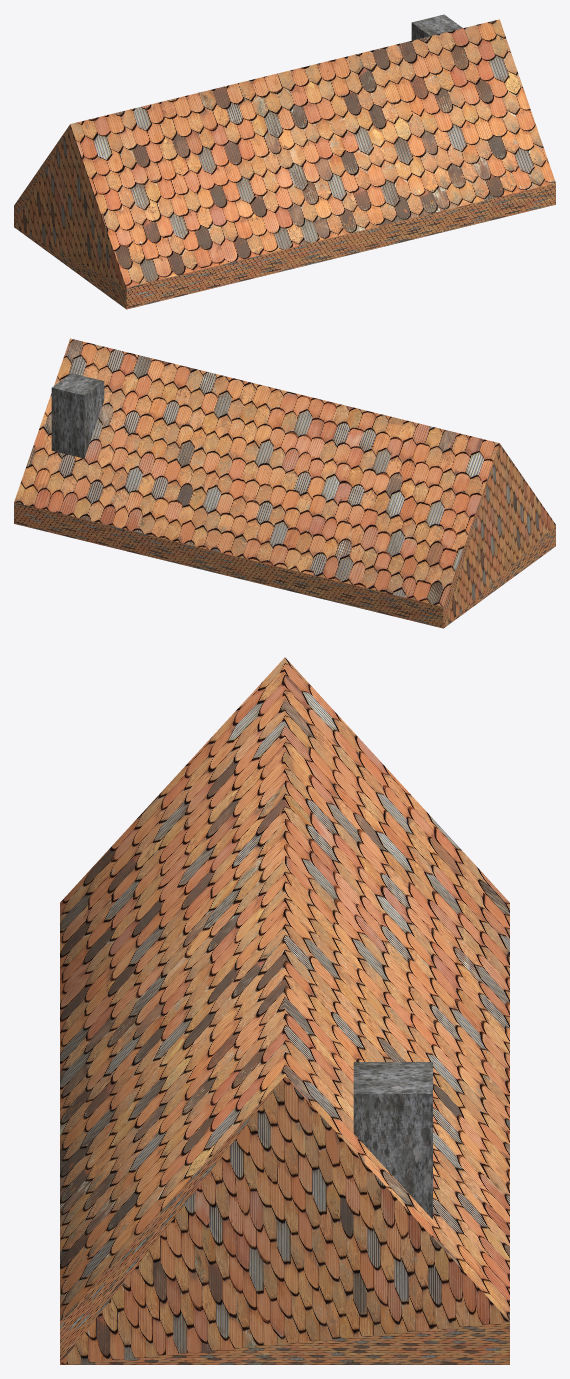
File: toit.FBX
3 renders of one model, top to bottom at view 1: azimuth 30°, elevation 25°; view 2: azimuth 150°, elevation 25°; view 3: azimuth 270°, elevation 25°, orthographic. The views are drawn at different scales.
Visible parts, largest first — view 1: Boîte001, Boîte002; view 2: Boîte001, Boîte002; view 3: Boîte001, Boîte002.
Boxes of the visible parts, <box> form: Boîte001: <box>14,19,555,309</box>; Boîte002: <box>411,14,462,40</box>; Boîte001: <box>14,338,555,628</box>; Boîte002: <box>51,373,104,458</box>; Boîte001: <box>60,657,509,1364</box>; Boîte002: <box>353,1062,432,1219</box>.
Size of the model in its own units: 78.17 by 25.09 by 35.47.
2 materials, 2 textured.
